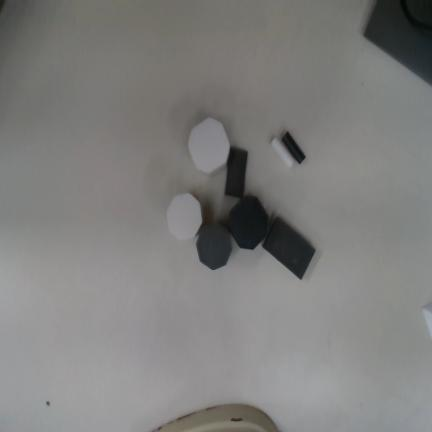Cilindro: (281, 131, 306, 165), (270, 137, 295, 169)
Paralelepipedo: (262, 217, 316, 281), (225, 147, 248, 198)
Piramide: (421, 302, 431, 338)
Prisma_hexagonal: (188, 117, 230, 175), (229, 195, 269, 250), (167, 192, 205, 240), (196, 223, 233, 270)
